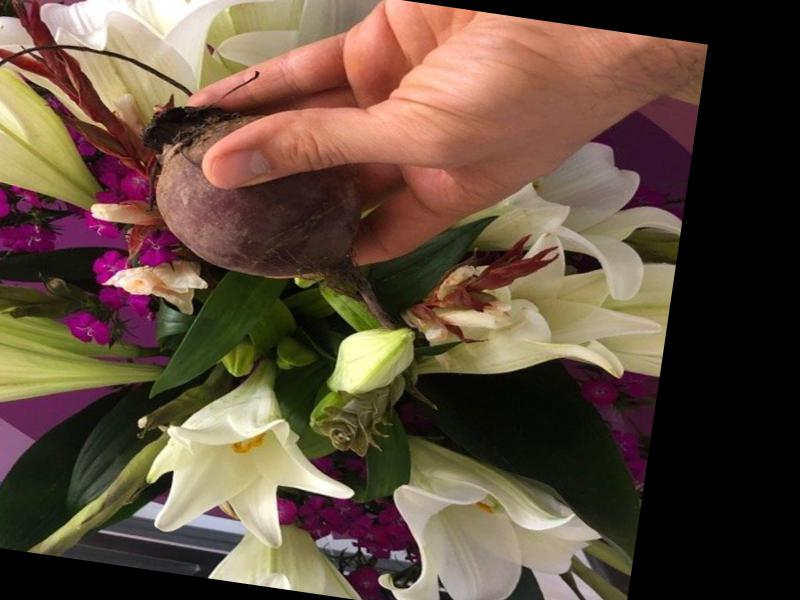Beet: (120, 97, 429, 334)
